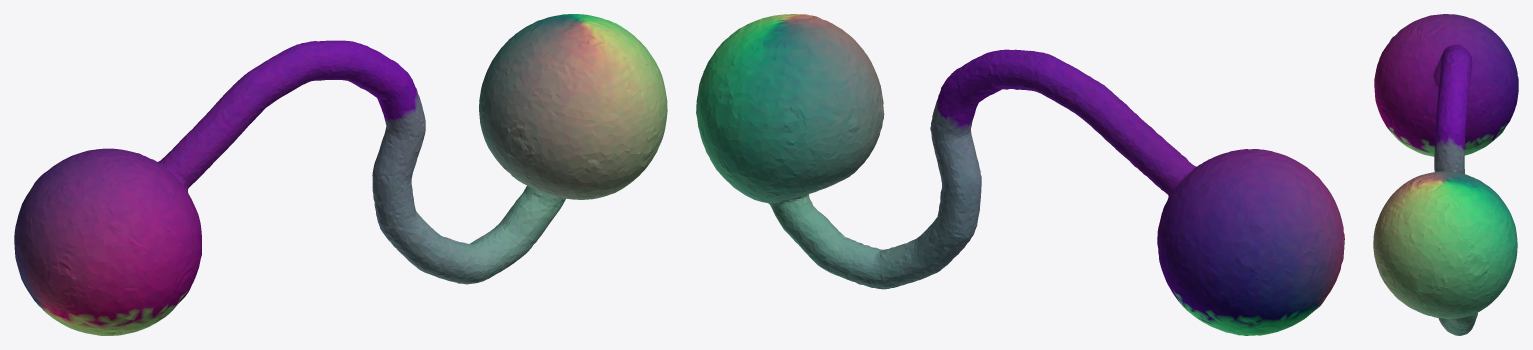
File: twoballs-3.off.obj
3 renders of one model, left to right at view 1: azimuth 30°, elevation 25°; view 2: azimuth 150°, elevation 25°; view 3: azimuth 270°, elevation 25°, orthographic. The views are drawn at different scales.
Size of the model in its own units: 1.75 by 0.7372 by 0.458.
